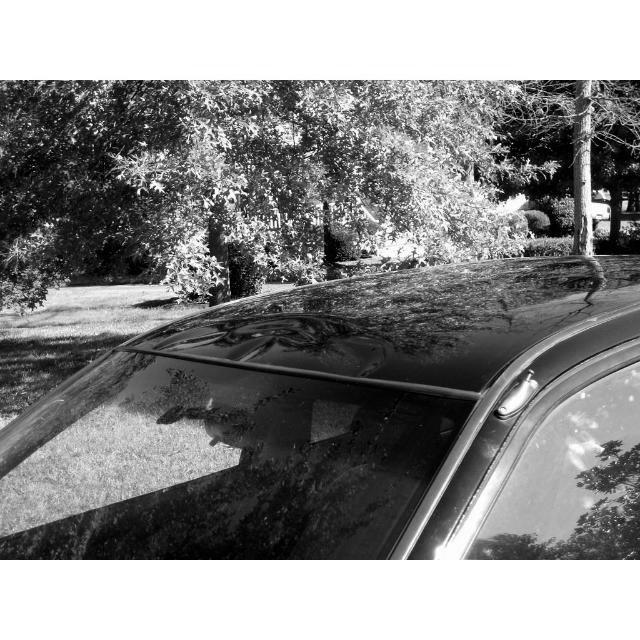roof-dent: (156, 294, 460, 397)
